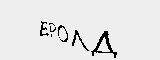Д: (91, 29, 117, 59)
Е: (38, 17, 49, 40)
Л: (71, 30, 90, 51)
О: (57, 23, 70, 43)
Р: (47, 22, 56, 38)
